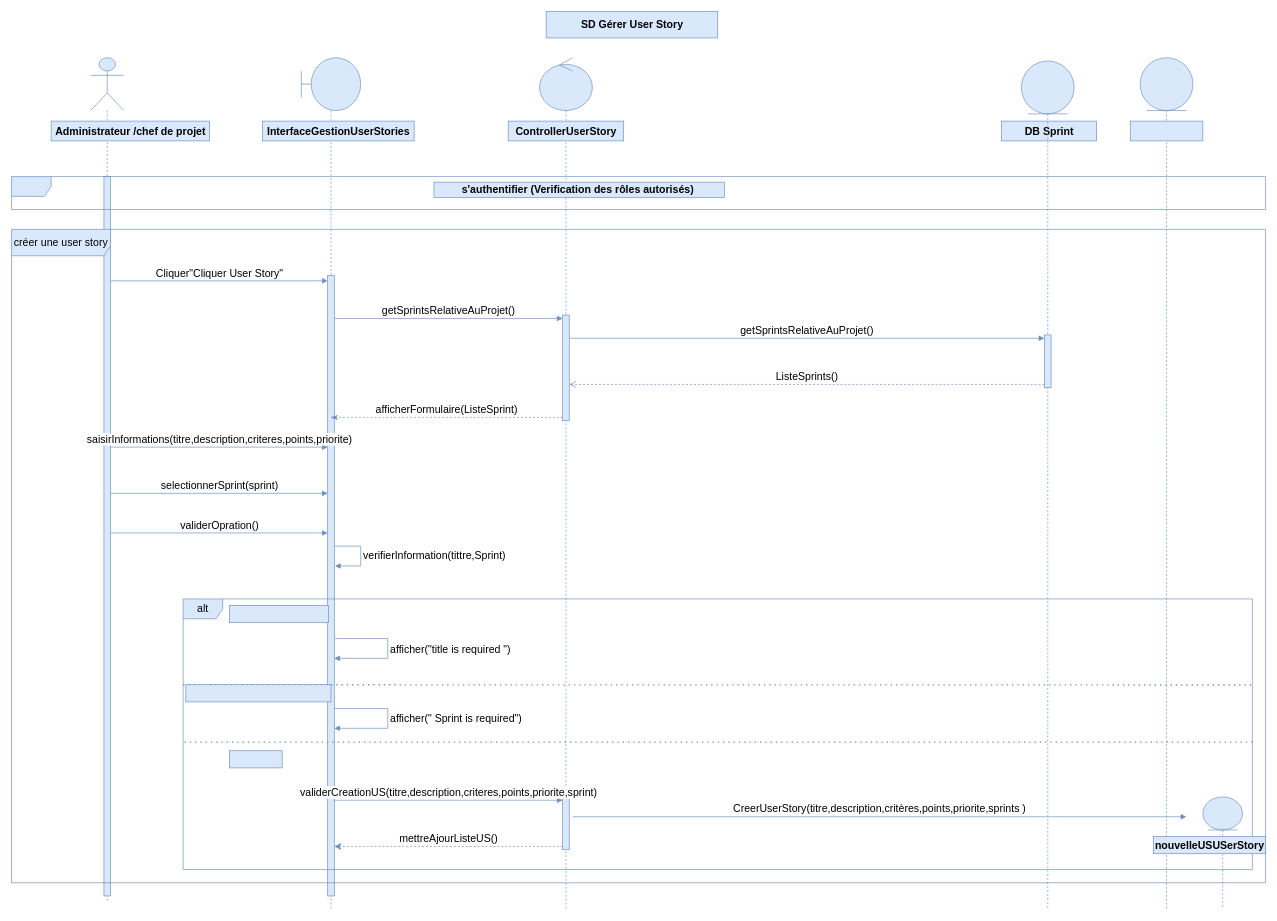
This 1277x921 diagram has some shape labels left out. Each missing label, with the centre of its shape:
"[Aucun sprint selectionne]" goes at (x=258, y=693).
"[else]" goes at (x=255, y=759).
"[Le tittre est vide]" goes at (x=278, y=614).
"DB UserStory" goes at (x=1166, y=130).
"ref" goes at (x=638, y=193).
